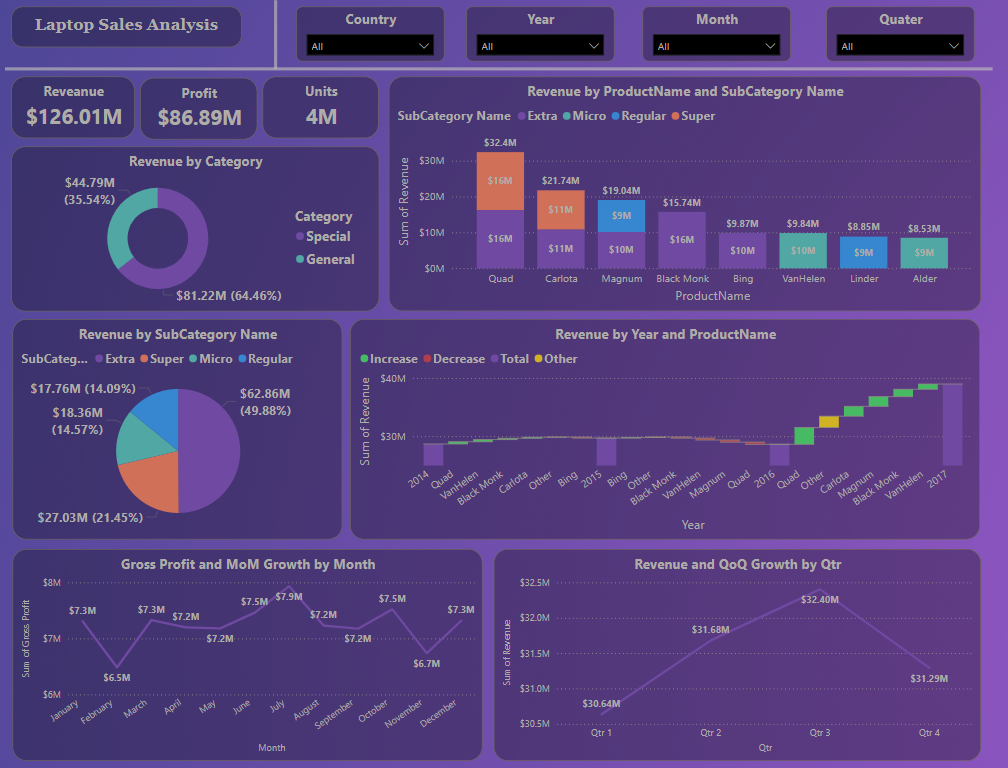

Layout of this report page (visuals, bound fields, positions):
{"tool":"powerbi","page":{"name":"Page 1","canvas":[1280,1000],"ordinal":0},"visuals":[{"type":"textbox","box":[8.6,9.8,298.3,52.6],"z":0},{"type":"slicer","title":"Year","fields":{"Values":["Date Master.Year"]},"box":[597.8,9.8,191.9,70.9],"z":1000},{"type":"slicer","title":"Month","fields":{"Values":["Date Master.Month"]},"box":[826.3,9.8,191.9,70.9],"z":2000},{"type":"slicer","title":"Quater","fields":{"Values":["Date Master.Qtr"]},"box":[1063.5,9.8,191.9,70.9],"z":3000},{"type":"slicer","title":"Country","fields":{"Values":["Geography.Country"]},"box":[376.5,9.8,191.9,70.9],"z":4000},{"type":"shape","box":[0,80.8,1279.5,19.2],"z":5000},{"type":"shape","box":[323.3,1.4,53.4,89],"z":6000},{"type":"card","title":"Reveanue","fields":{"Values":["Sum(Sales.Total Revenue)"]},"box":[8.2,100,160.3,80],"z":7000},{"type":"card","title":"Profit","fields":{"Values":["Sum(Sales.Gross Profit)"]},"box":[175.3,101.4,152.1,80],"z":8000},{"type":"card","title":"Units","fields":{"Values":["Sum(Sales.Units)"]},"box":[334.2,100,150.7,80],"z":9000},{"type":"pieChart","title":"Revenue by SubCategory Name","fields":{"Category":["SubCategory.SubCategory Name"],"Y":["Sum(Sales.Total Revenue)"]},"box":[9.1,414.5,427.3,285.5],"z":10000},{"type":"donutChart","title":"Revenue by Category","fields":{"Y":["Sum(Sales.Total Revenue)"],"Category":["Categories.Category"]},"box":[8.2,190.4,476.7,213.7],"z":11000},{"type":"waterfallChart","title":"Revenue by Year and ProductName","fields":{"Category":["Date Master.Year"],"Breakdown":["Product.ProductName"],"Y":["Sum(Sales.Total Revenue)"]},"box":[447.3,414.5,816.4,285.5],"z":12000},{"type":"columnChart","title":"Revenue by ProductName and SubCategory Name","fields":{"Category":["Product.ProductName"],"Y":["Sum(Sales.Total Revenue)"],"Series":["SubCategory.SubCategory Name"]},"box":[497.3,100,767.1,304.1],"z":13000},{"type":"lineChart","title":"Gross Profit and MoM Growth by Month","fields":{"Category":["Date Master.Month"],"Y":["Sum(Sales.Gross Profit)"]},"box":[9.1,712.7,609.1,274.5],"z":14000},{"type":"lineChart","title":"Revenue and QoQ Growth by Qtr","fields":{"Category":["Date Master.Qtr"],"Y":["Sum(Sales.Revenue)"]},"box":[632.7,712.7,630.9,274.5],"z":15000}]}

Visuals, with their boxes in screenshot pixels (x1, y1, x2, y2), scaled from the page's 1280x1000 canvas onto the 1008x768 screenshot:
textbox: (x1=7, y1=8, x2=242, y2=48)
"Year" slicer: (x1=471, y1=8, x2=622, y2=62)
"Month" slicer: (x1=651, y1=8, x2=802, y2=62)
"Quater" slicer: (x1=838, y1=8, x2=989, y2=62)
"Country" slicer: (x1=296, y1=8, x2=448, y2=62)
shape: (x1=0, y1=62, x2=1007, y2=77)
shape: (x1=255, y1=1, x2=297, y2=69)
"Reveanue" card: (x1=6, y1=77, x2=133, y2=138)
"Profit" card: (x1=138, y1=78, x2=258, y2=139)
"Units" card: (x1=263, y1=77, x2=382, y2=138)
"Revenue by SubCategory Name" pieChart: (x1=7, y1=318, x2=344, y2=538)
"Revenue by Category" donutChart: (x1=6, y1=146, x2=382, y2=310)
"Revenue by Year and ProductName" waterfallChart: (x1=352, y1=318, x2=995, y2=538)
"Revenue by ProductName and SubCategory Name" columnChart: (x1=392, y1=77, x2=996, y2=310)
"Gross Profit and MoM Growth by Month" lineChart: (x1=7, y1=547, x2=487, y2=758)
"Revenue and QoQ Growth by Qtr" lineChart: (x1=498, y1=547, x2=995, y2=758)
